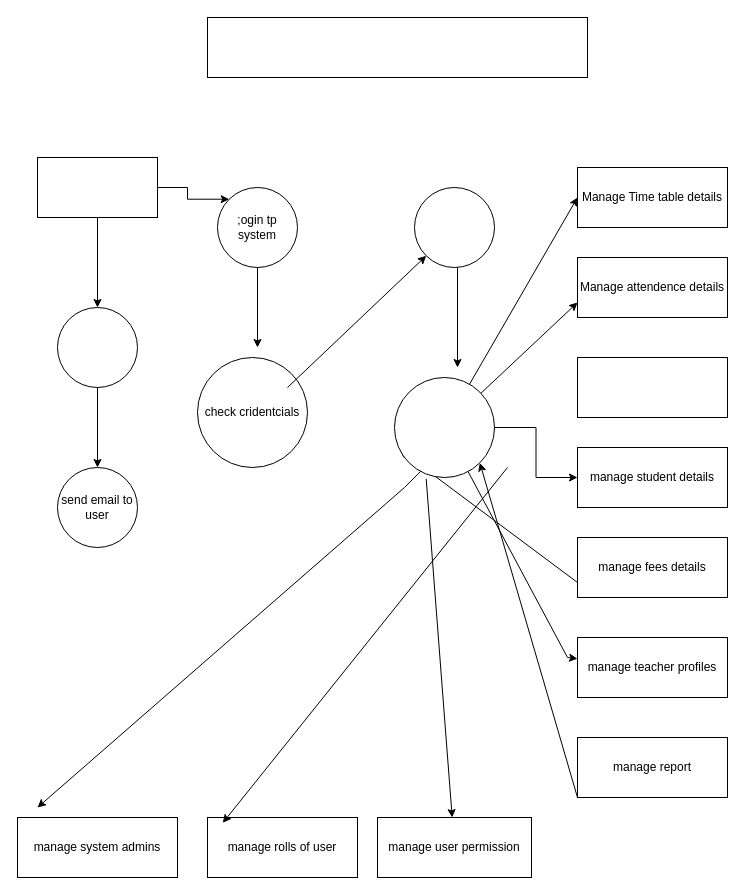
Some shapes in this 745 by 895 pixel diagram are drawn without their labels. The centre of each missing label's shape, as x and y in pixels:
"admin" belongs at (97,187).
"check roles of access" belongs at (454,227).
"forget password" belongs at (97,347).
"Manage class details" belongs at (652,387).
"manage modues" belongs at (444,427).
"student information system" belongs at (397,47).
